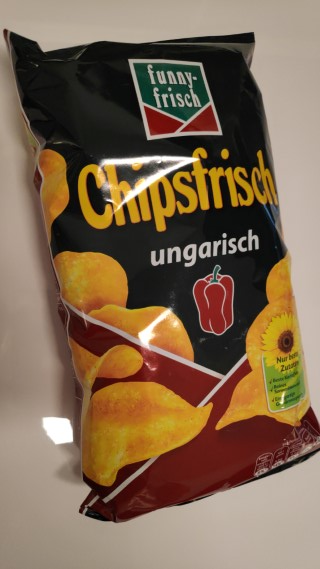chipsfrisch: (2, 28, 320, 523)
